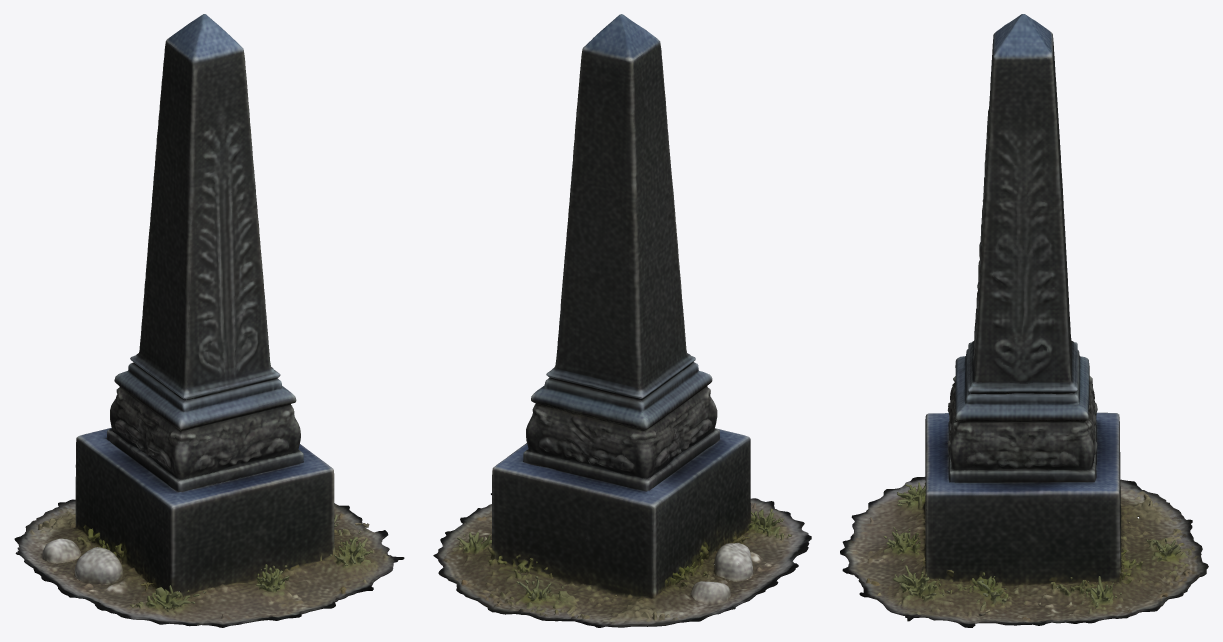
File: grave_03_tapering_obelisk.glb
The picture shows the model from 3 angles, left to right: view 1: azimuth 30°, elevation 25°; view 2: azimuth 150°, elevation 25°; view 3: azimuth 270°, elevation 25°; orthographic projection.
Parts seen in each view (by area): view 1: world; view 2: world; view 3: world.
Boxes of the visible parts, x1,y1,x2,y2 form: world: (14, 14, 404, 627); world: (433, 14, 811, 627); world: (840, 14, 1208, 627).
Bounding box in the file's own units: 0.6052 × 0.9976 × 0.6139.
1 material, 1 textured.
